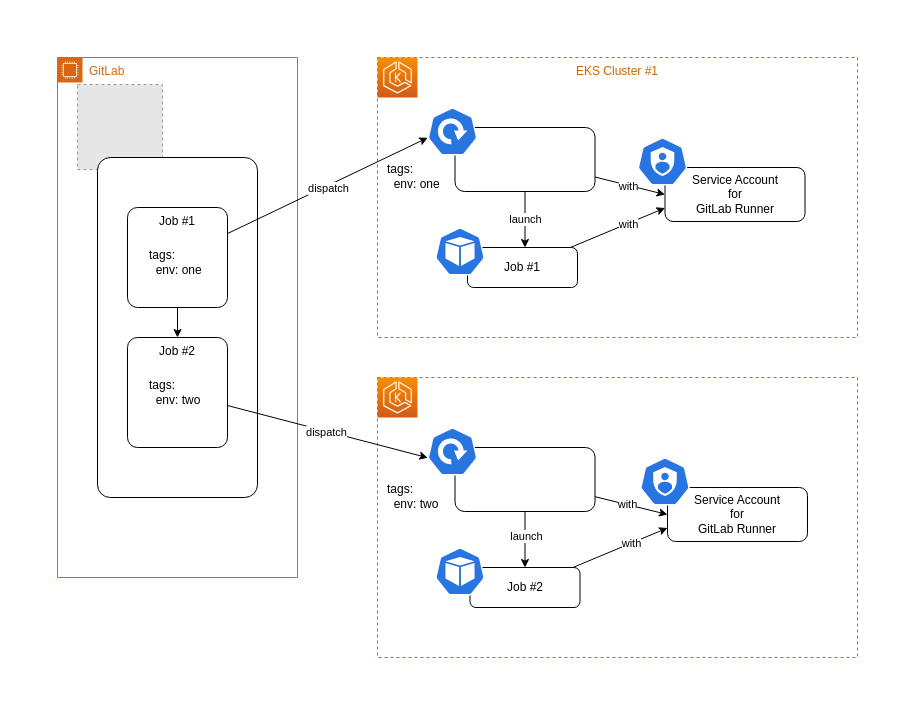
Some shapes in this 914 by 714 pixel diagram are drawn without their labels. Grey dashed boxes stand in for pictures. Each missing label, with the box of its shape:
CI/CD Pipeline: (96, 156, 258, 498)
EKS Cluster #2: (376, 376, 858, 658)
GitLab Runner #1 with Kubernetes Executor: (454, 126, 595, 192)
GitLab Runner #2 with Kubernetes Executor: (454, 446, 595, 512)
